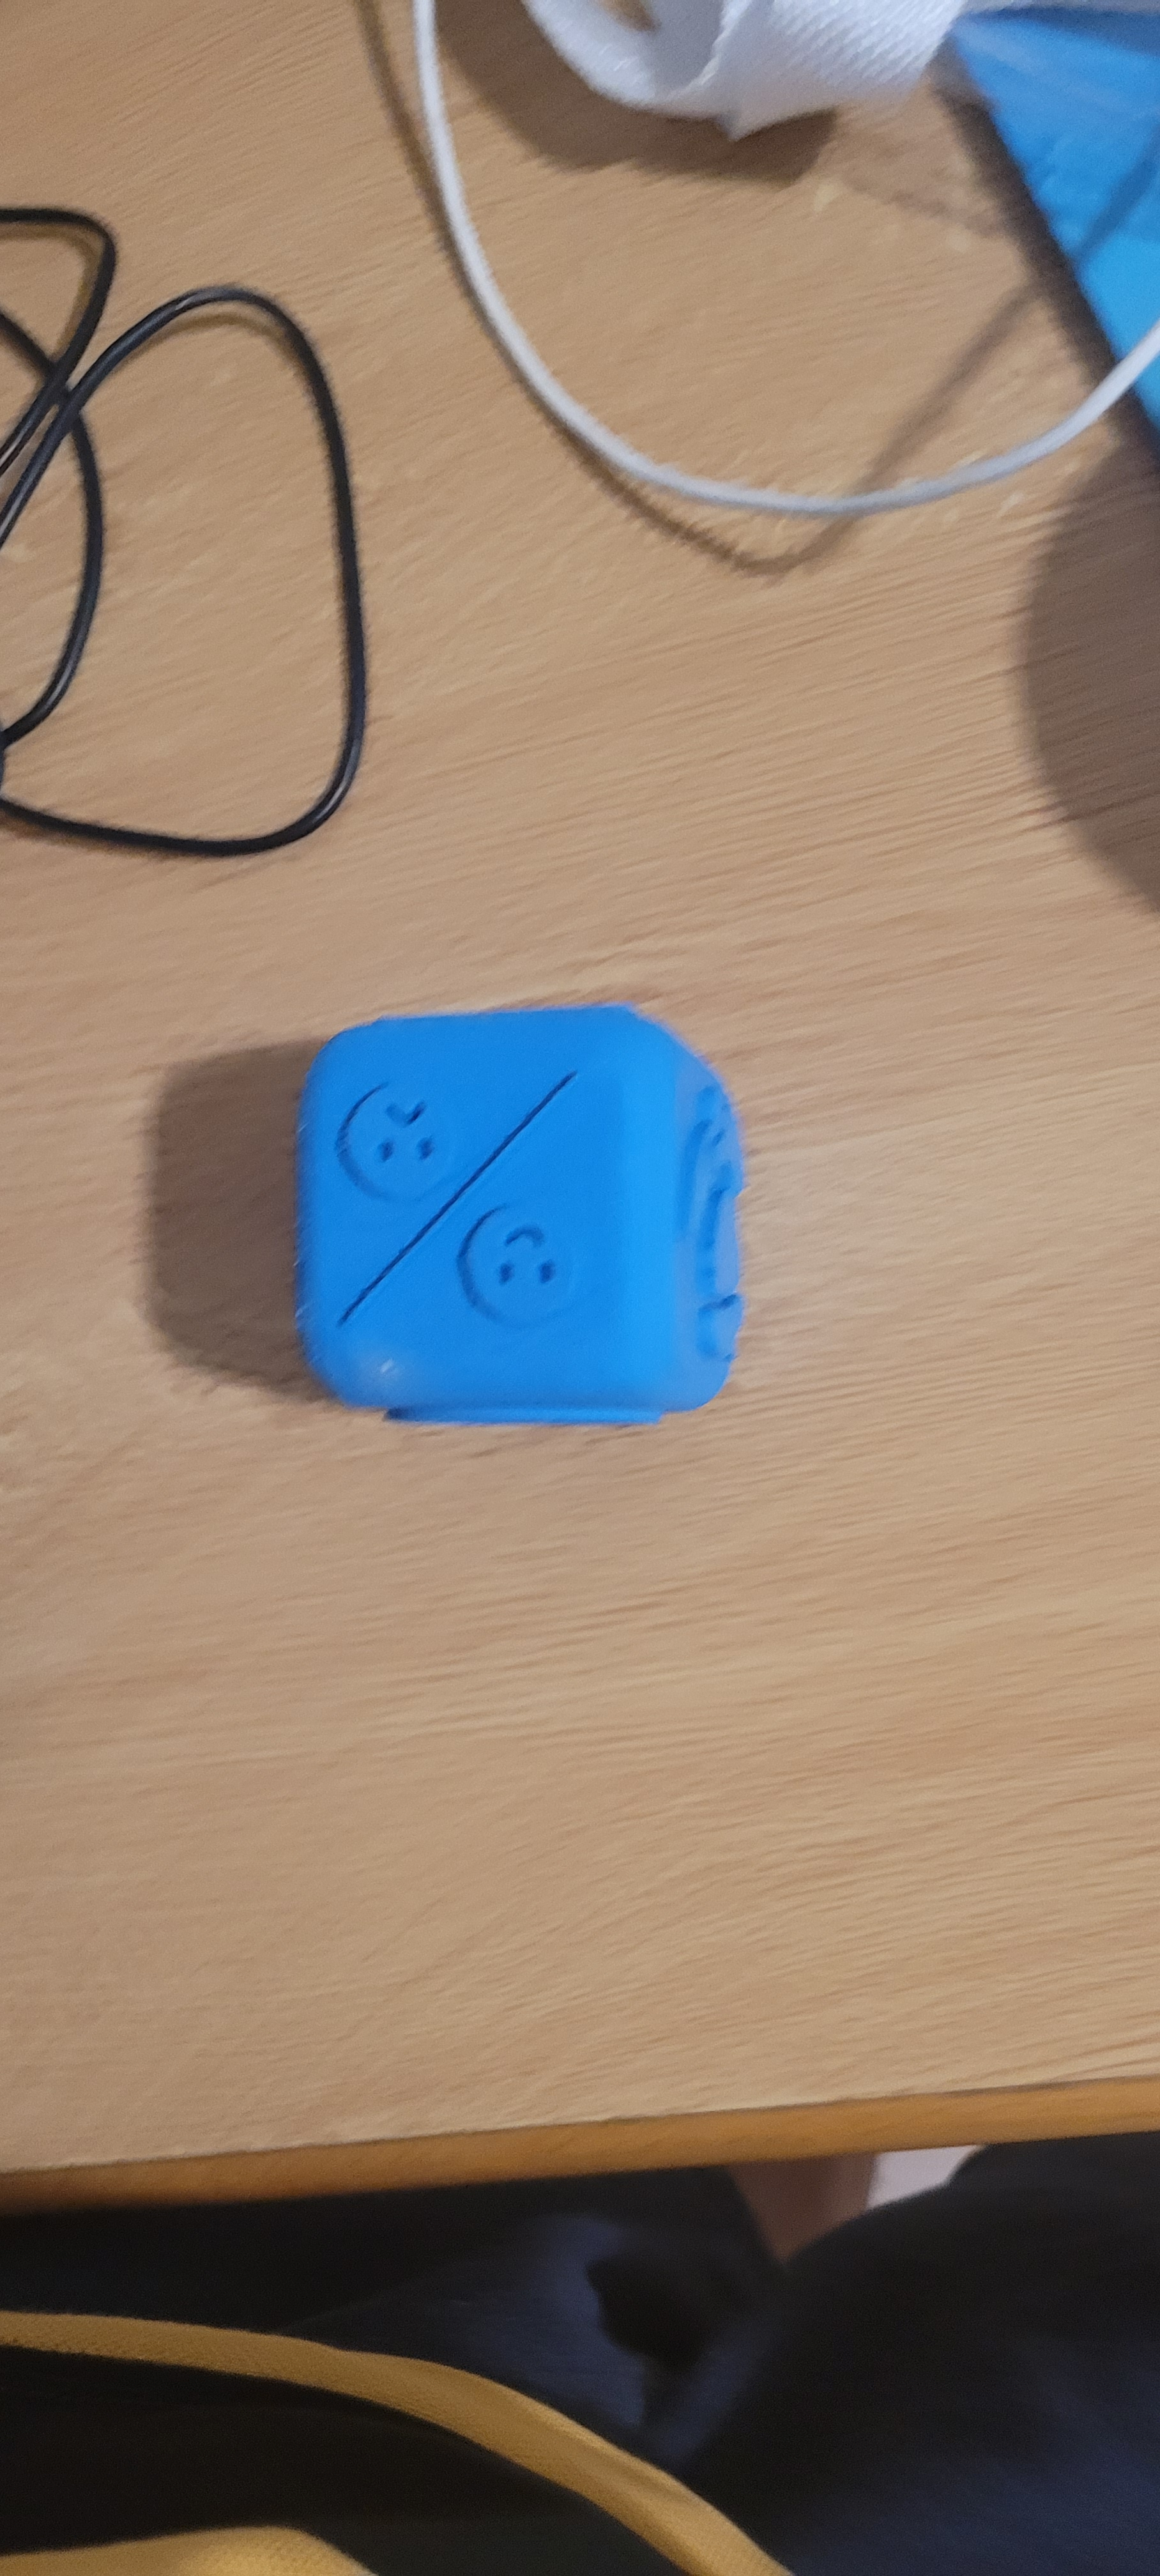Like/Dislike: (281, 1007, 692, 1370)
